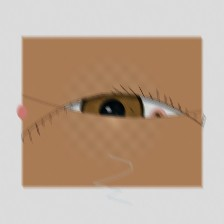foreign_body_visible: (151, 115, 169, 130)
